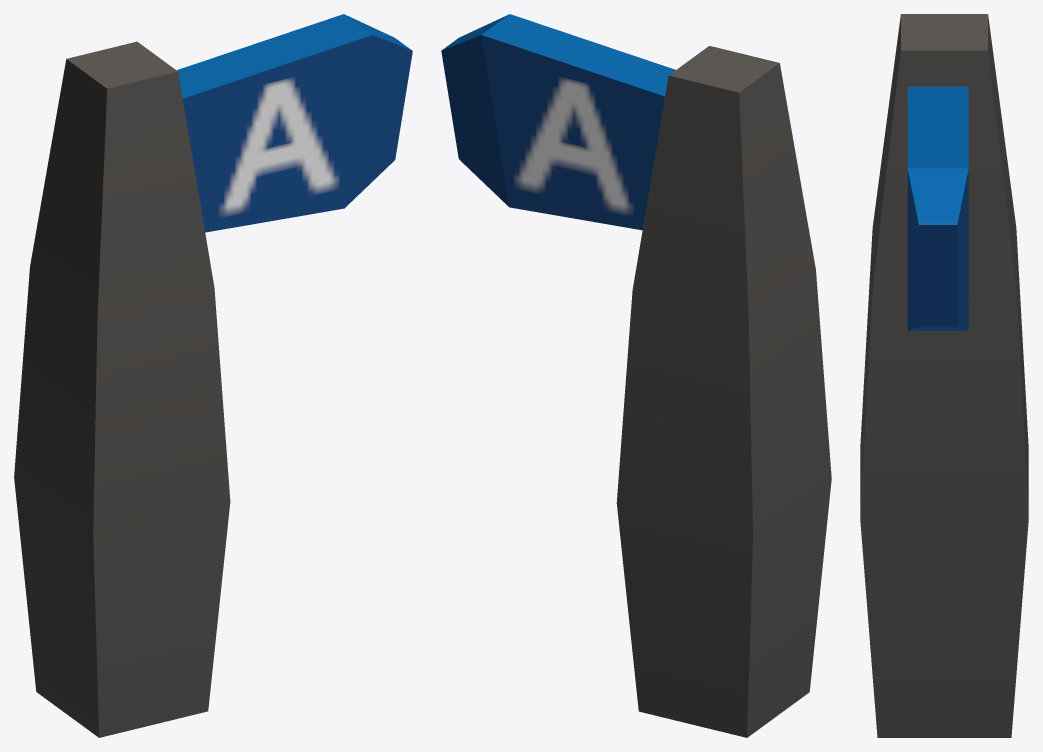
File: PilarA.fbx
The picture shows the model from 3 angles, left to right: view 1: azimuth 30°, elevation 25°; view 2: azimuth 150°, elevation 25°; view 3: azimuth 270°, elevation 25°; orthographic projection. The views are drawn at different scales.
Parts seen in each view (by area): view 1: PilarA; view 2: PilarA; view 3: PilarA.
Boxes of the visible parts, bbox=[...] form: PilarA: bbox=[14, 14, 412, 737]; PilarA: bbox=[441, 14, 831, 737]; PilarA: bbox=[860, 14, 1028, 737].
Bounding box in the file's own units: 169 × 295 × 66.59.
Materials: 1 (1 with a texture image).
